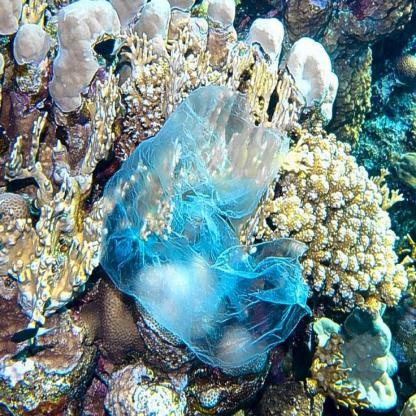Rác: (92, 84, 335, 378)
